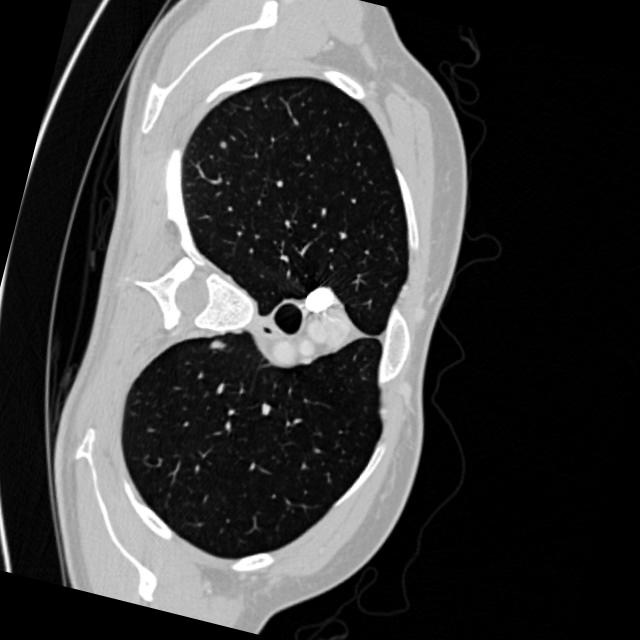nodule: (200, 326, 234, 361)
